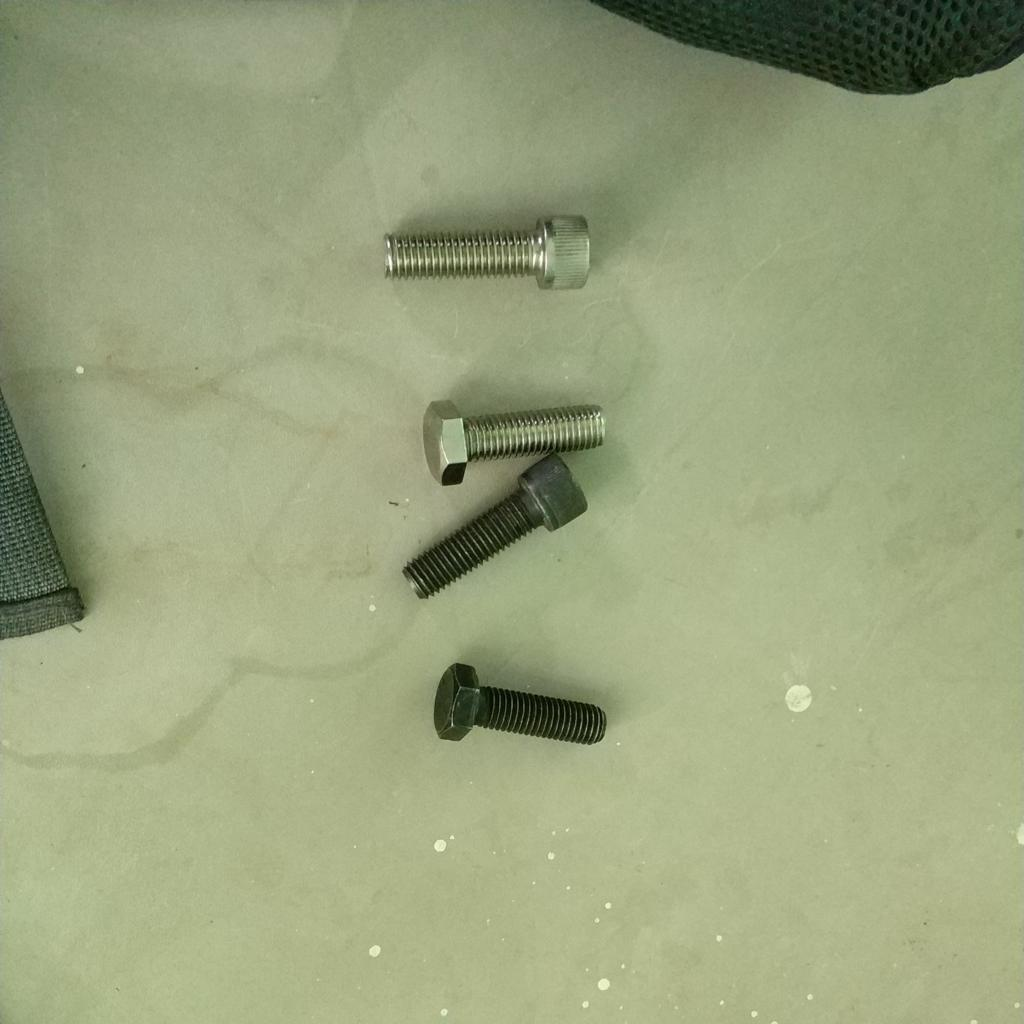screwtype1black: (400, 456, 590, 621)
screwtype1silver: (368, 207, 593, 300)
screwtype2black: (428, 660, 611, 770)
screwtype2silver: (414, 373, 611, 485)
